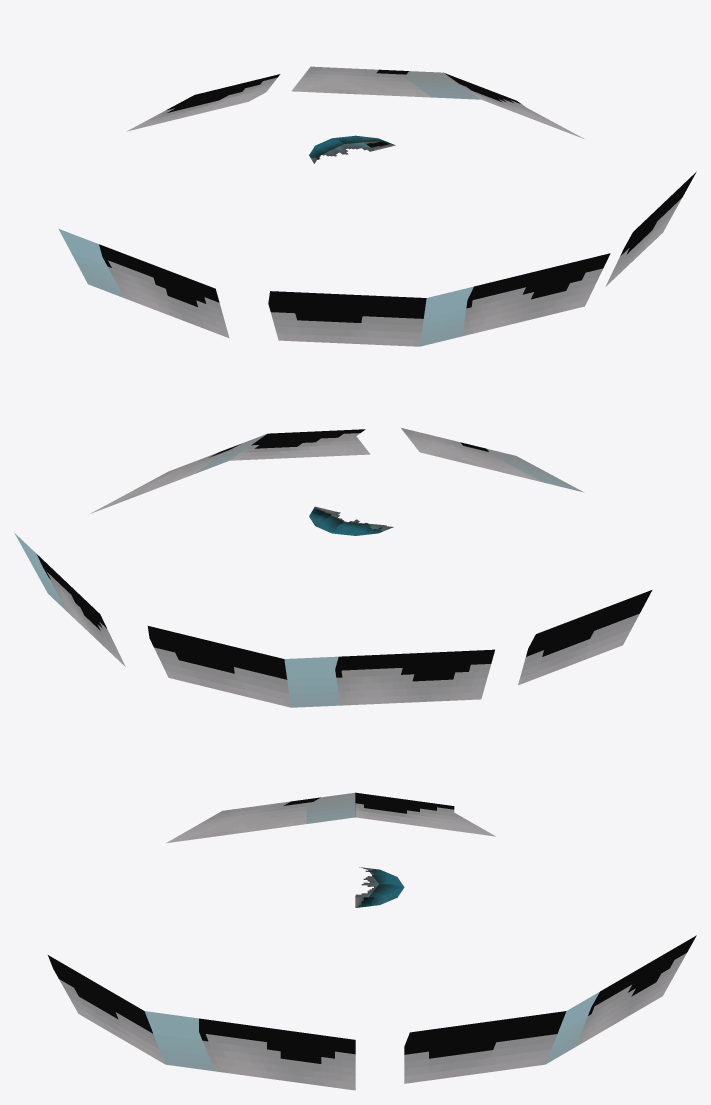
File: 95_efe.gltf
3 views of the same model, one above another, from view 1: azimuth 30°, elevation 25°; view 2: azimuth 150°, elevation 25°; view 3: azimuth 270°, elevation 25° (orthographic). The views are drawn at different scales.
Bounding box in the file's own units: 820 × 88 × 780.
Materials: 2 (2 with a texture image).
